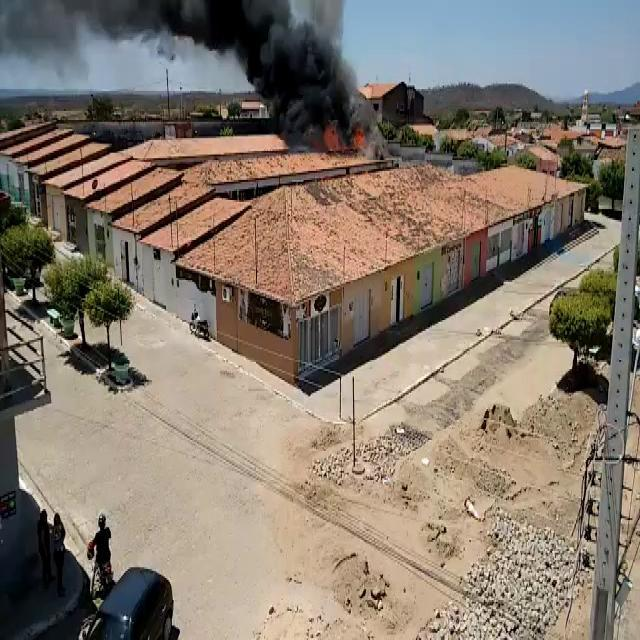Fire: (322, 128, 386, 158)
Smoke: (10, 5, 270, 81), (276, 12, 390, 122)
